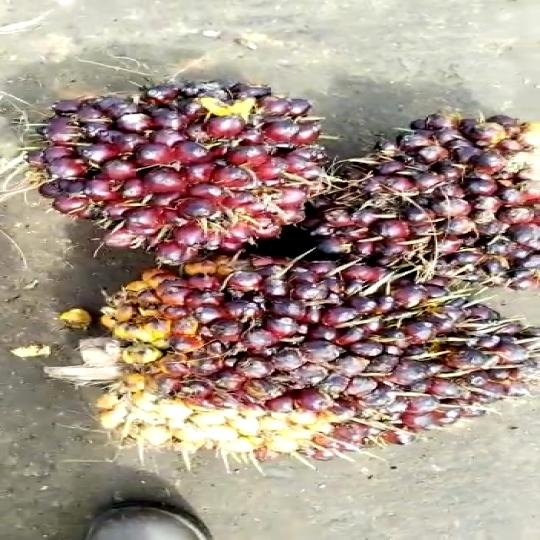kurang masak: (60, 260, 540, 490), (38, 70, 340, 249), (338, 89, 540, 306)
